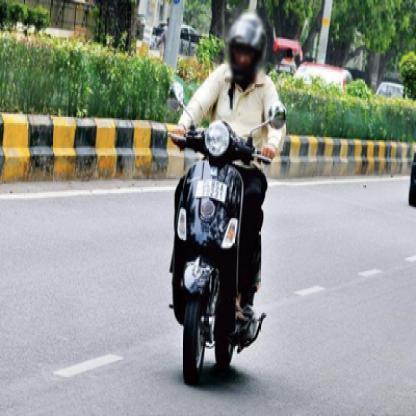Helmet: (222, 9, 281, 91)
